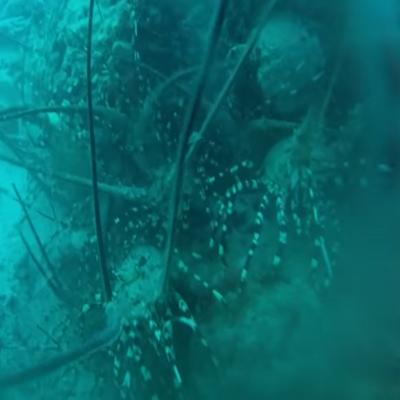lobster: (111, 244, 167, 350), (262, 131, 324, 225)
